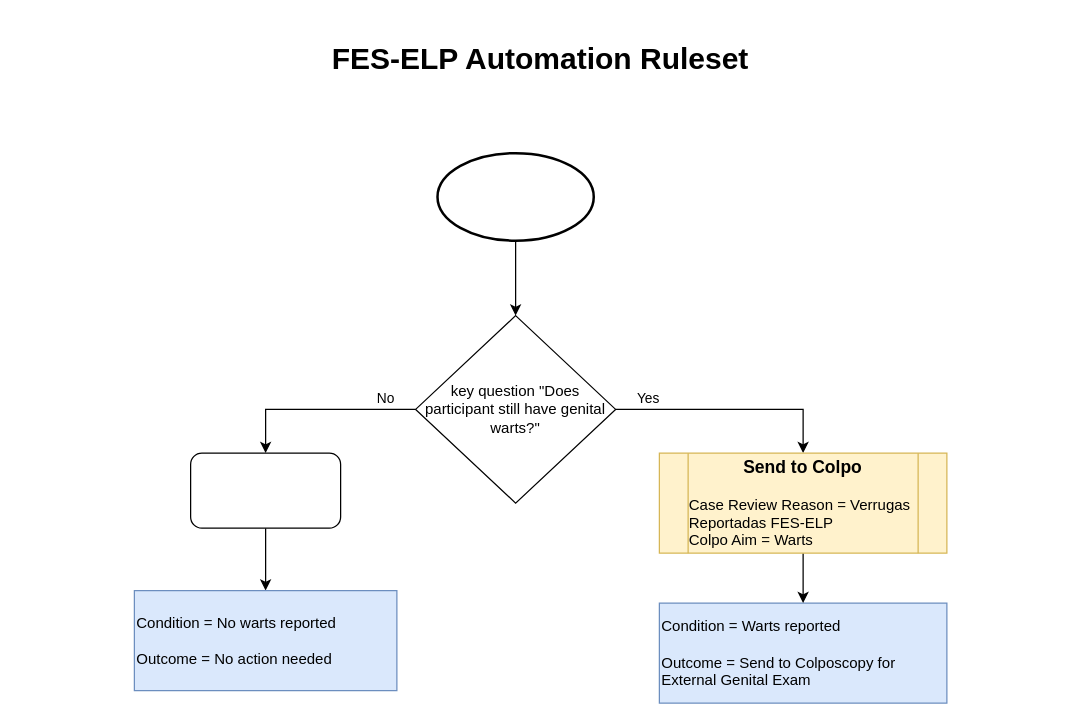
Some shapes in this 1080 by 725 pixel diagram are drawn without their labels. Each missing label, with the centre of its shape:
"do nothing" goes at [265,490].
"Visit with FES-ELP is completed" goes at [515,196].
